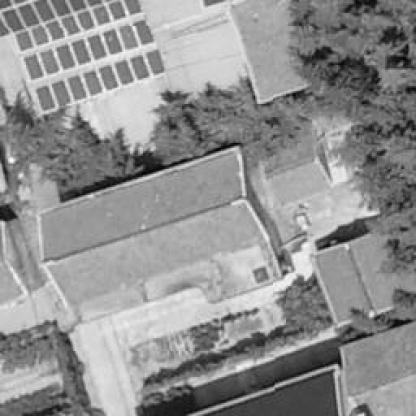solar-pv-panel: (0, 0, 156, 83), (33, 48, 167, 115)
